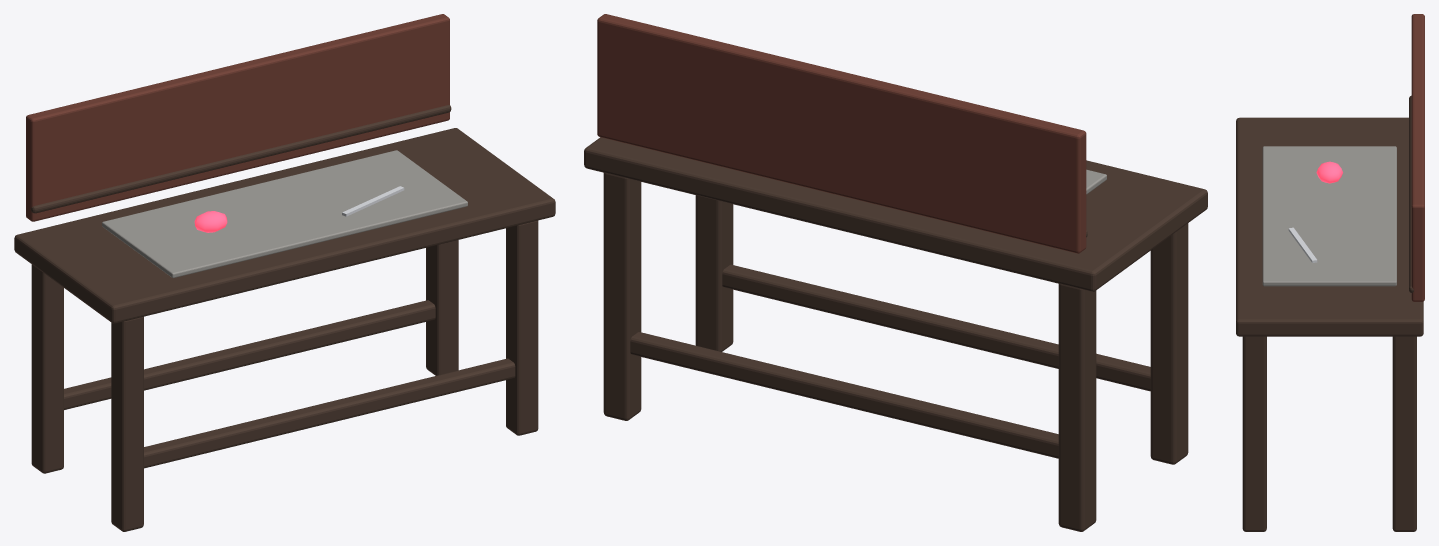
The model's file is lab_bench_dissection_bench.glb.
3 renders of one model, left to right at view 1: azimuth 30°, elevation 25°; view 2: azimuth 150°, elevation 25°; view 3: azimuth 270°, elevation 25°, orthographic. The views are drawn at different scales.
Parts seen in each view (by area): view 1: GD_lab_bench_dissection_bench__m0, GD_lab_bench_dissection_bench__m1, GD_lab_bench_dissection_bench__m2; view 2: GD_lab_bench_dissection_bench__m0, GD_lab_bench_dissection_bench__m1; view 3: GD_lab_bench_dissection_bench__m0, GD_lab_bench_dissection_bench__m2, GD_lab_bench_dissection_bench__m1, GD_lab_bench_dissection_bench__m4, GD_lab_bench_dissection_bench__m3.
Boxes of the visible parts, <box> form: GD_lab_bench_dissection_bench__m0: <box>14,105,555,531</box>; GD_lab_bench_dissection_bench__m1: <box>26,14,449,221</box>; GD_lab_bench_dissection_bench__m2: <box>102,150,467,278</box>; GD_lab_bench_dissection_bench__m0: <box>584,137,1207,531</box>; GD_lab_bench_dissection_bench__m1: <box>597,14,1086,253</box>; GD_lab_bench_dissection_bench__m0: <box>1236,95,1423,531</box>; GD_lab_bench_dissection_bench__m2: <box>1262,146,1396,286</box>; GD_lab_bench_dissection_bench__m1: <box>1411,14,1424,301</box>; GD_lab_bench_dissection_bench__m4: <box>1316,161,1342,183</box>; GD_lab_bench_dissection_bench__m3: <box>1288,227,1317,262</box>.
Size of the model in its own units: 1.8 by 1.35 by 0.705.
